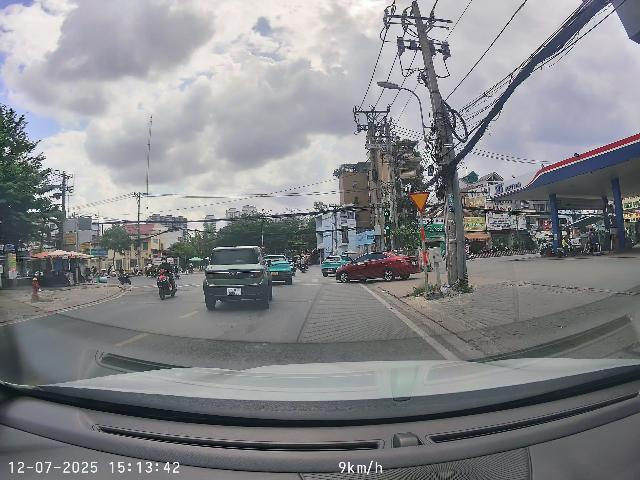208-giao-nhau-voi-duong-uu-tien: (408, 192, 431, 212)
